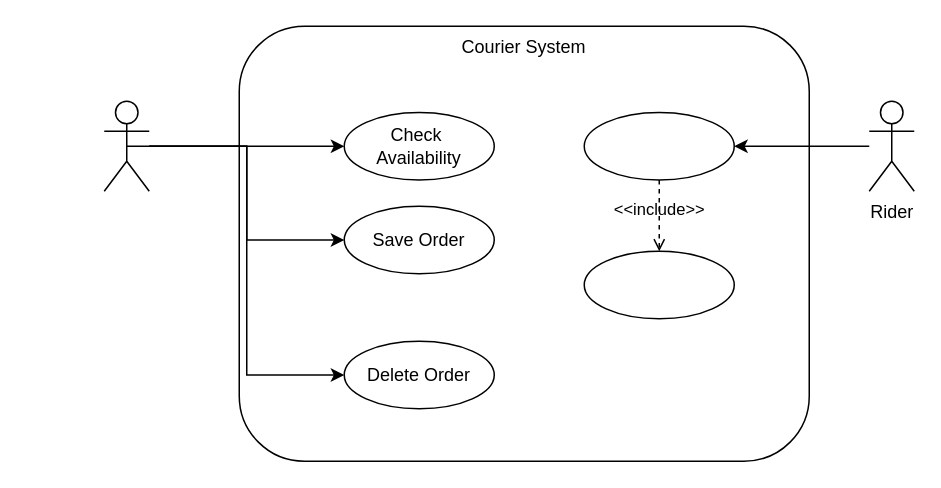
Some shapes in this 941 by 488 pixel diagram are drawn without their labels. The centre of each missing label's shape, as x and y in pixels:
External actor (ACMEAT): [126,145]
Order completed: [658,284]
Ride Order: [658,145]
